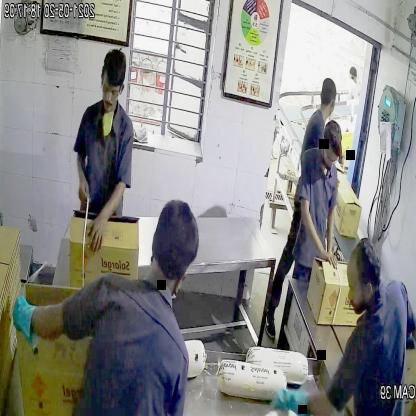goggles: (97, 80, 126, 104)
